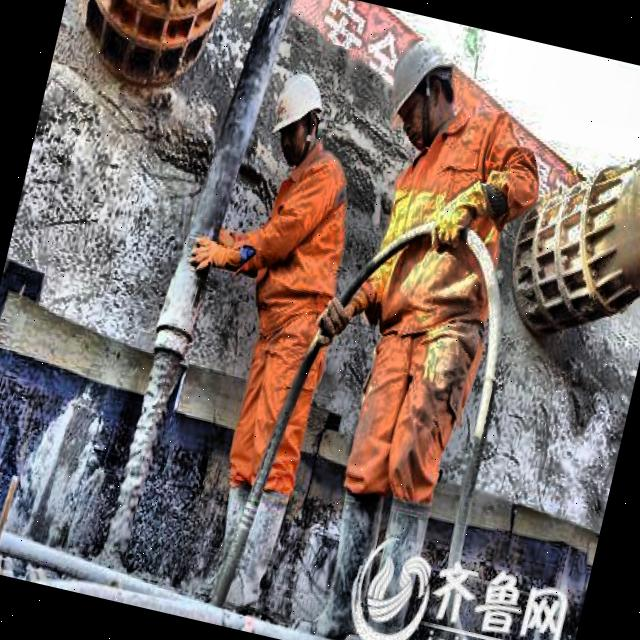helmet: (368, 25, 483, 165), (257, 62, 336, 172)
